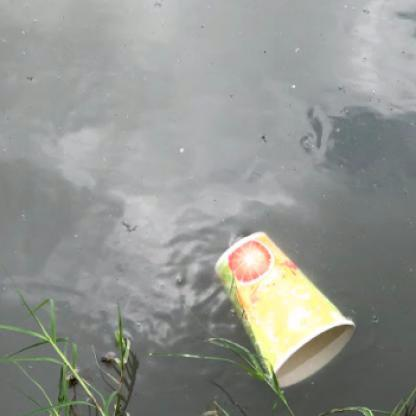Plastic: (212, 227, 361, 388)
